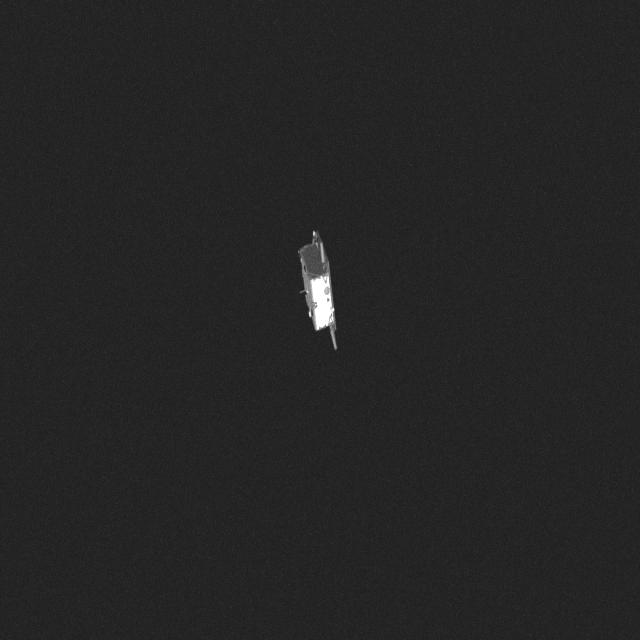satellite: (292, 222, 344, 342)
